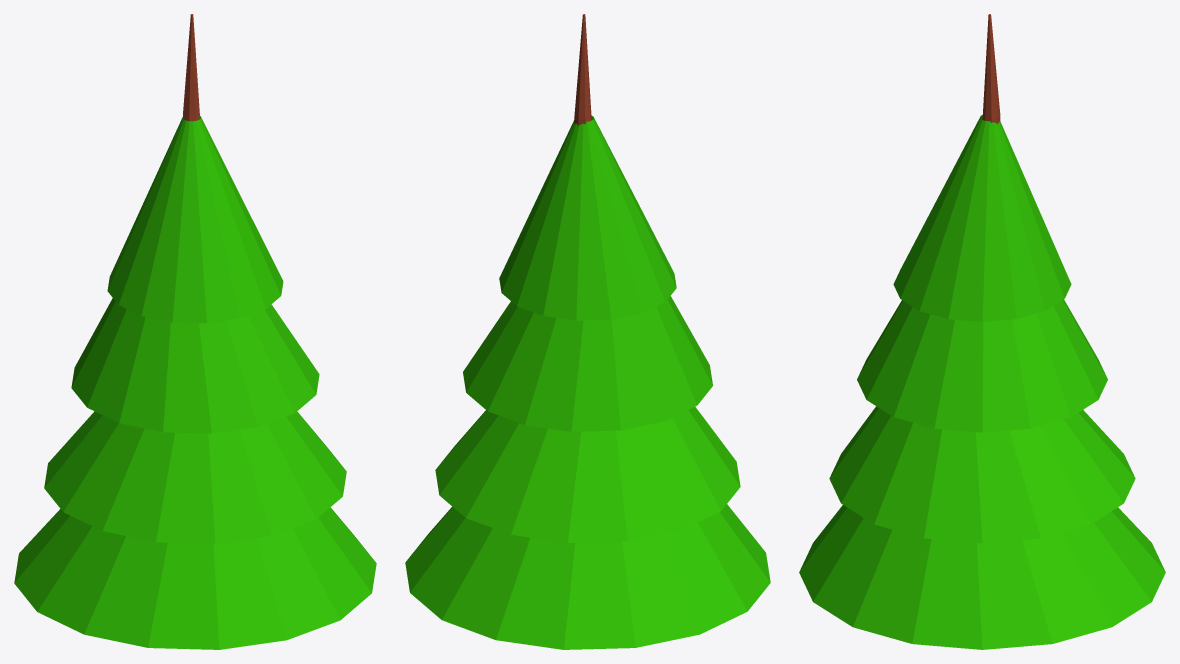
The model's file is Tree4.fbx.
3 views of the same model, side by side, from view 1: azimuth 30°, elevation 25°; view 2: azimuth 150°, elevation 25°; view 3: azimuth 270°, elevation 25° (orthographic).
Visible parts, largest first — view 1: Tree; view 2: Tree; view 3: Tree.
Part boxes in pixels (x1,y1,x2,y2): Tree: [14, 14, 376, 649]; Tree: [405, 14, 770, 649]; Tree: [799, 14, 1165, 649].
Size of the model in its own units: 151 by 275 by 151.
